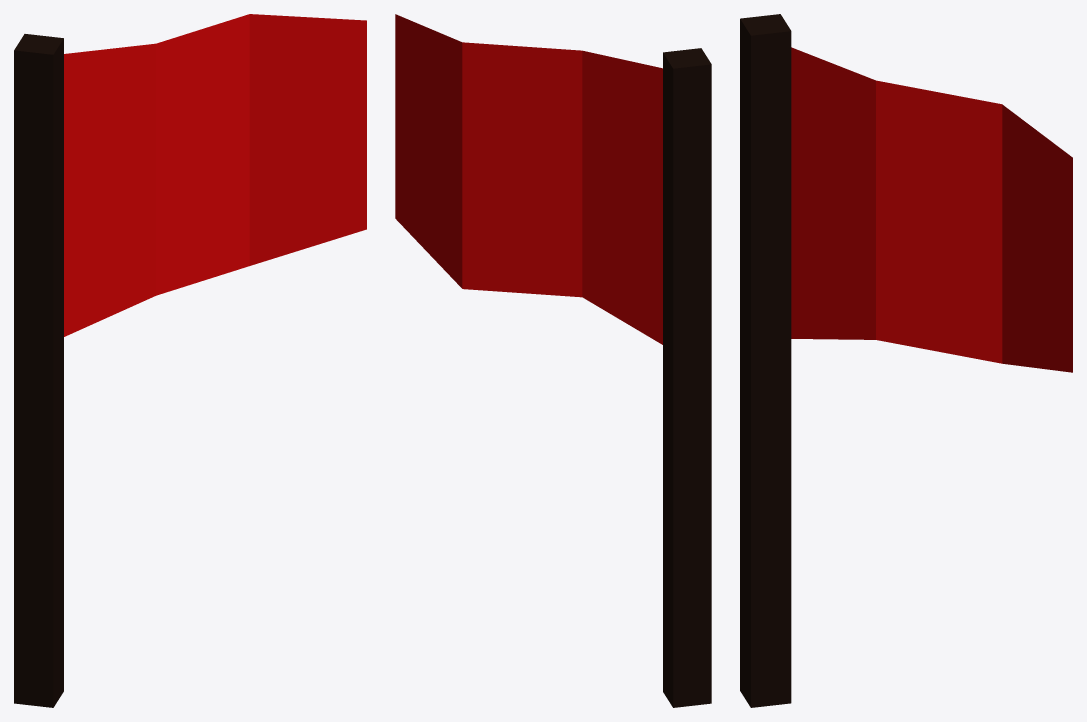
The model's file is Flag.glb.
The picture shows the model from 3 angles, left to right: view 1: azimuth 30°, elevation 25°; view 2: azimuth 150°, elevation 25°; view 3: azimuth 330°, elevation 25°; orthographic projection. The views are drawn at different scales.
Visible parts, largest first — view 1: Flag; view 2: Flag; view 3: Flag.
Boxes of the visible parts, x1=… form: Flag: x1=14, y1=14, x2=366, y2=707; Flag: x1=395, y1=14, x2=711, y2=707; Flag: x1=740, y1=14, x2=1072, y2=707.
Bounding box in the file's own units: 0.661 × 1.22 × 0.0987.
